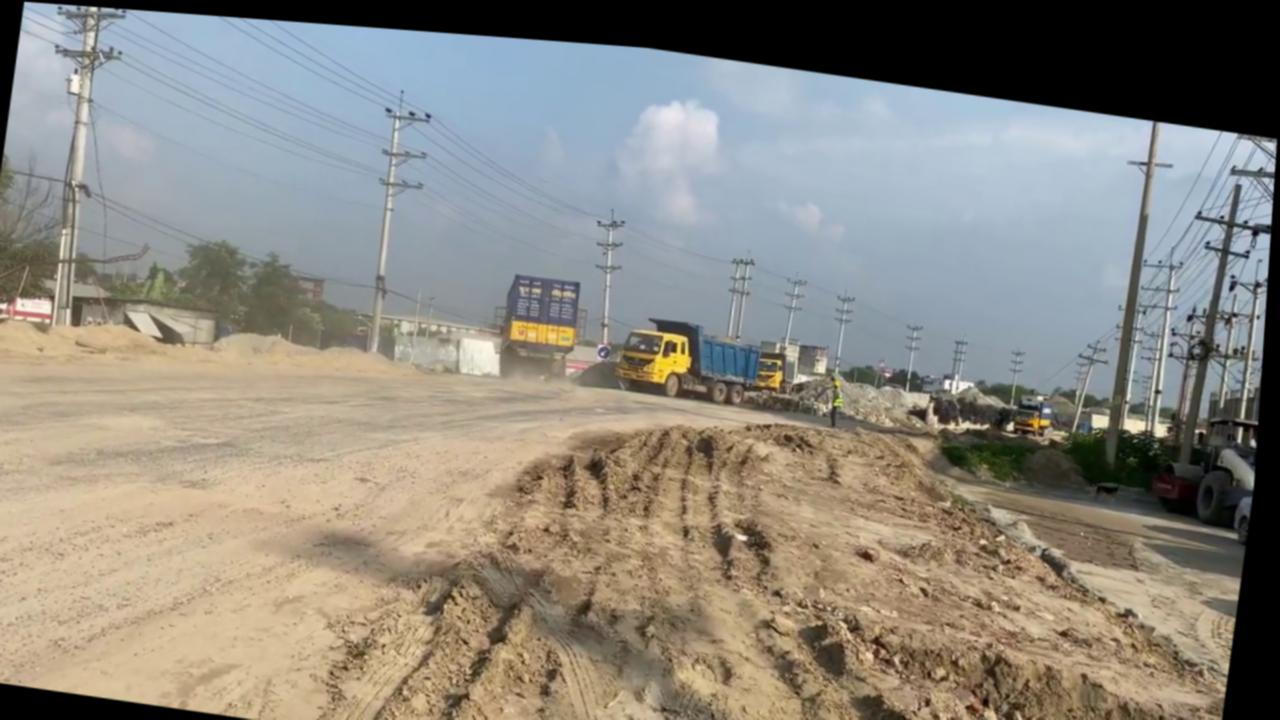Muddy road: (0, 288, 1262, 720)
Pole: (17, 2, 129, 328), (1089, 99, 1179, 454), (43, 3, 116, 326), (582, 195, 632, 337)
Tree: (349, 243, 589, 380), (1152, 385, 1263, 510), (499, 306, 582, 377), (1014, 375, 1060, 422), (754, 335, 794, 383)
